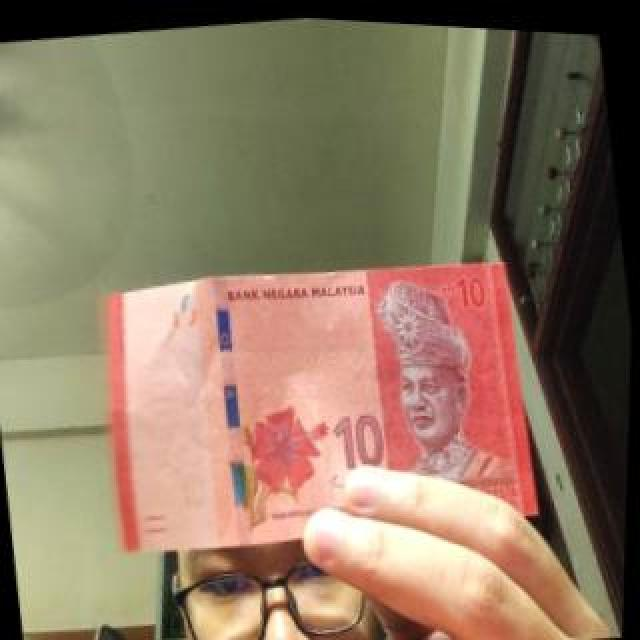10 Ringgit: (84, 226, 546, 577)
